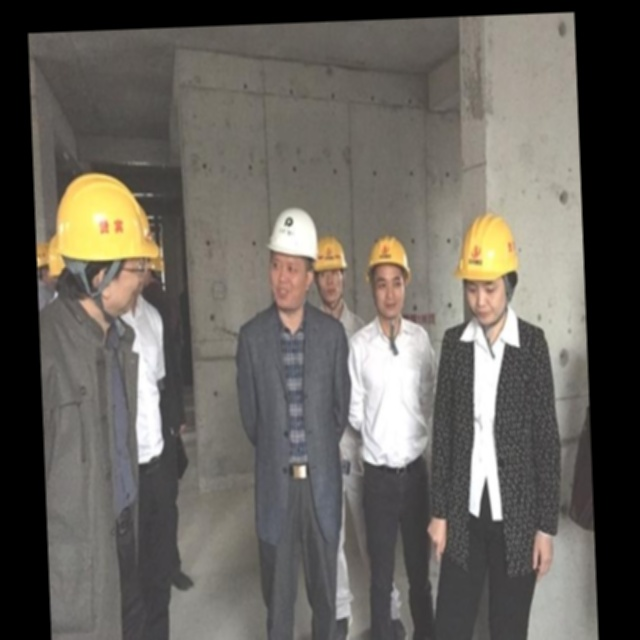Con_Casco: (456, 211, 522, 323), (366, 235, 412, 323)
Sin_Chaleco: (236, 302, 353, 494), (349, 319, 441, 472)
